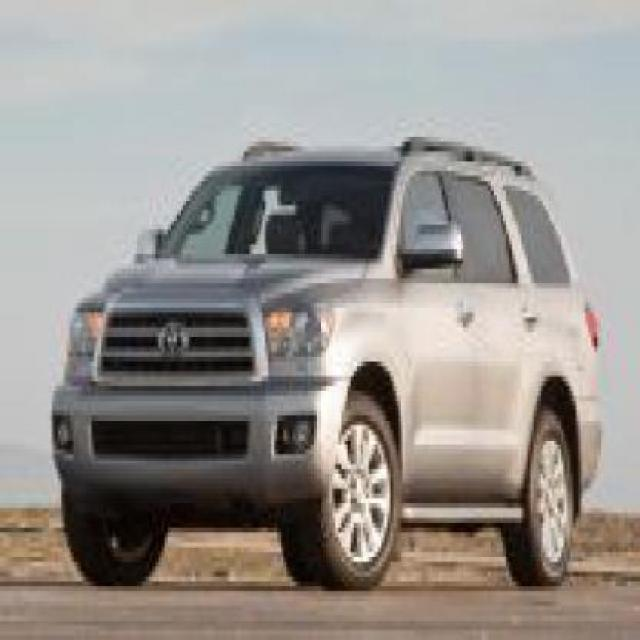vehicle: (40, 120, 613, 609)
